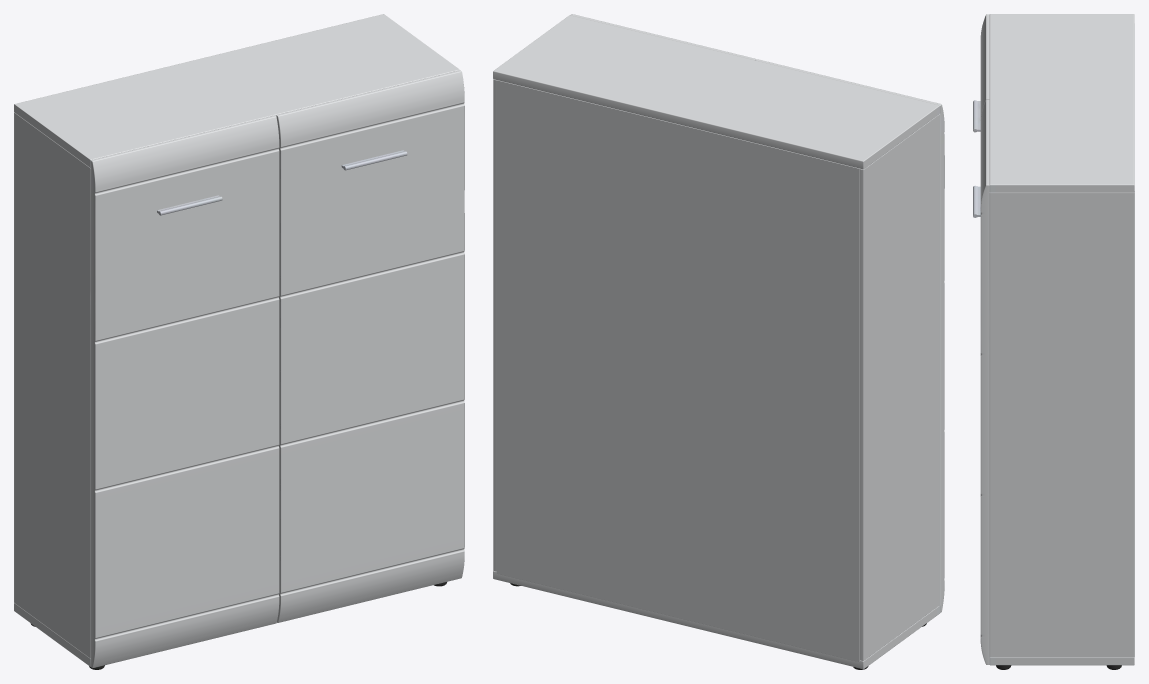
The model's file is abo-B00TOAN7YI.glb.
3 views of the same model, side by side, from view 1: azimuth 30°, elevation 25°; view 2: azimuth 150°, elevation 25°; view 3: azimuth 270°, elevation 25° (orthographic). The views are drawn at different scales.
Size of the model in its own units: 0.9 by 1.2 by 0.36.
Materials: 1 (1 with a texture image).
